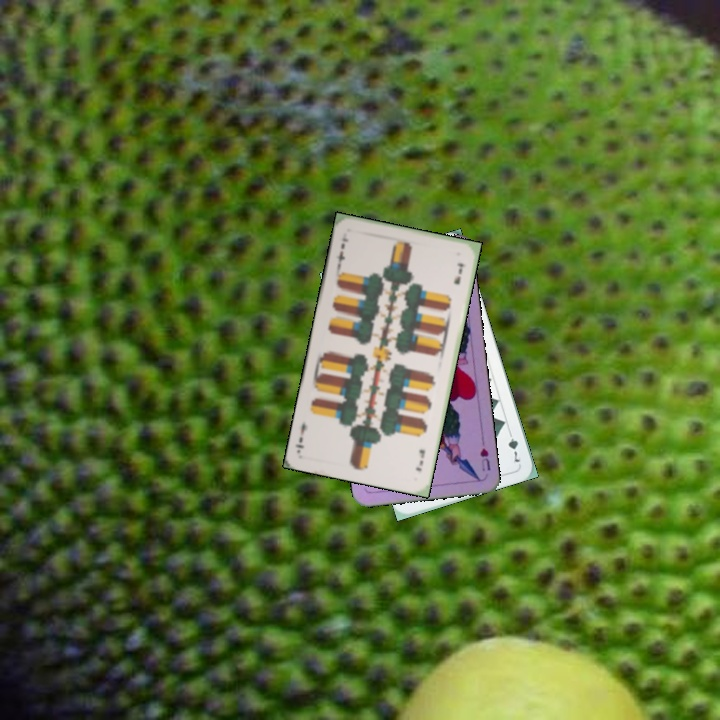E7: (332, 233, 351, 270), (412, 446, 428, 474)
G7: (504, 426, 523, 466)
HU: (476, 444, 493, 474)
